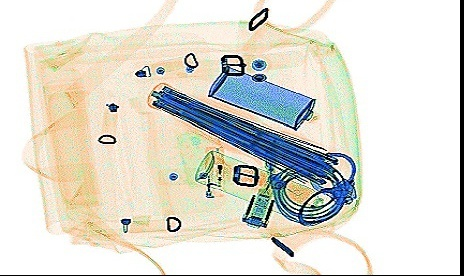handcuffs: (295, 144, 358, 232)
lighter: (201, 137, 225, 199)
pressure: (193, 151, 325, 223)
zippooil: (206, 64, 316, 129)
